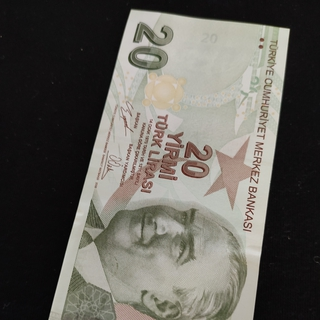20TLFront: (38, 8, 290, 320)
